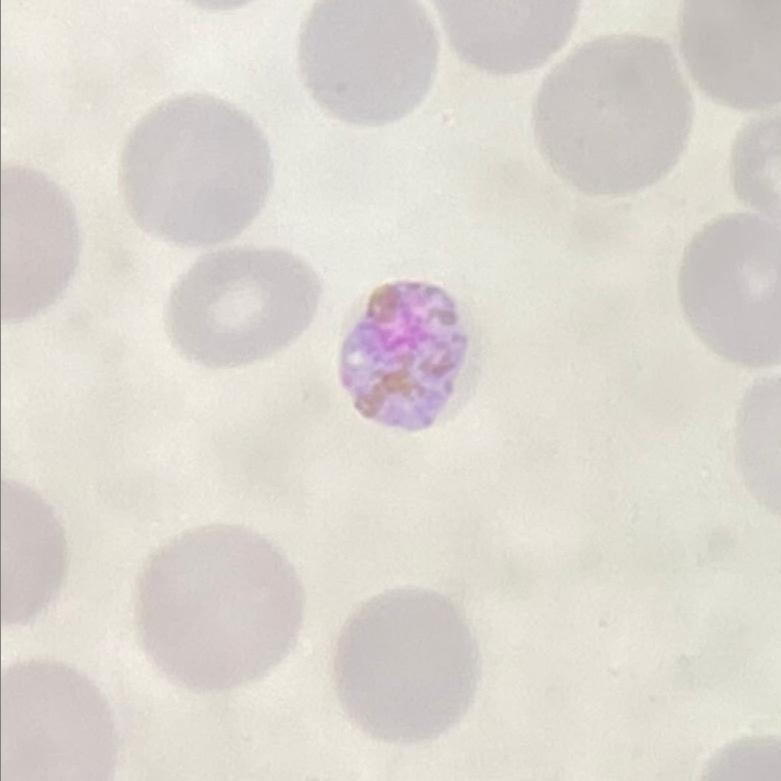Infected: (340, 277, 468, 431)
Uninfected: (535, 27, 701, 195), (135, 526, 306, 688), (122, 94, 277, 246), (337, 586, 482, 738), (167, 247, 323, 367), (297, 0, 441, 129)
